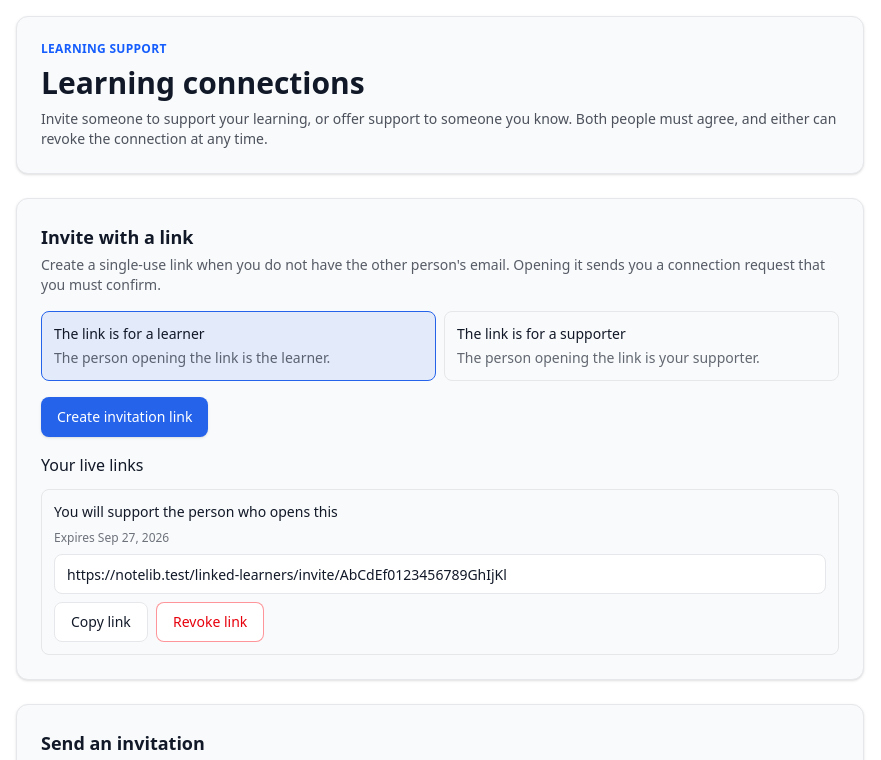
it: clears a stale links list when a foreground refetch fails
Check: the field showing "https://notelib.test/linked-learners/invite/AbCdEf0123456789GhIjKl" is shown, box [54,554,826,594]
Step 1. Click the button "Create invitation link" → x=125, y=417, box [41,397,208,437]
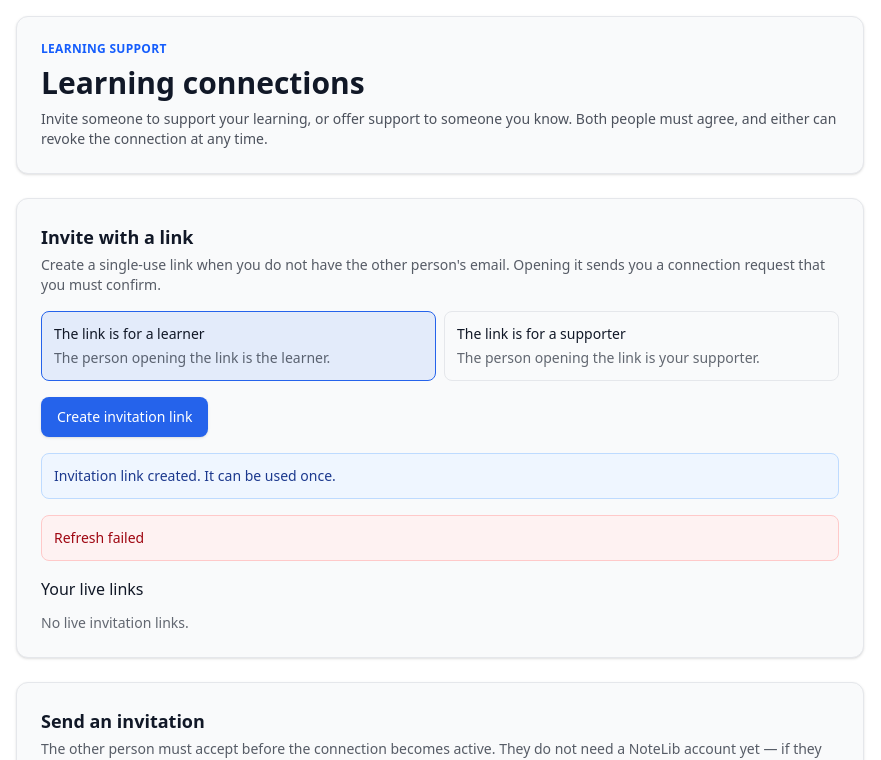
Check: the field showing "https://notelib.test/linked-learners/invite/AbCdEf0123456789GhIjKl" is not shown
Check: the message "Refresh failed" is shown, box [41,515,839,561]
